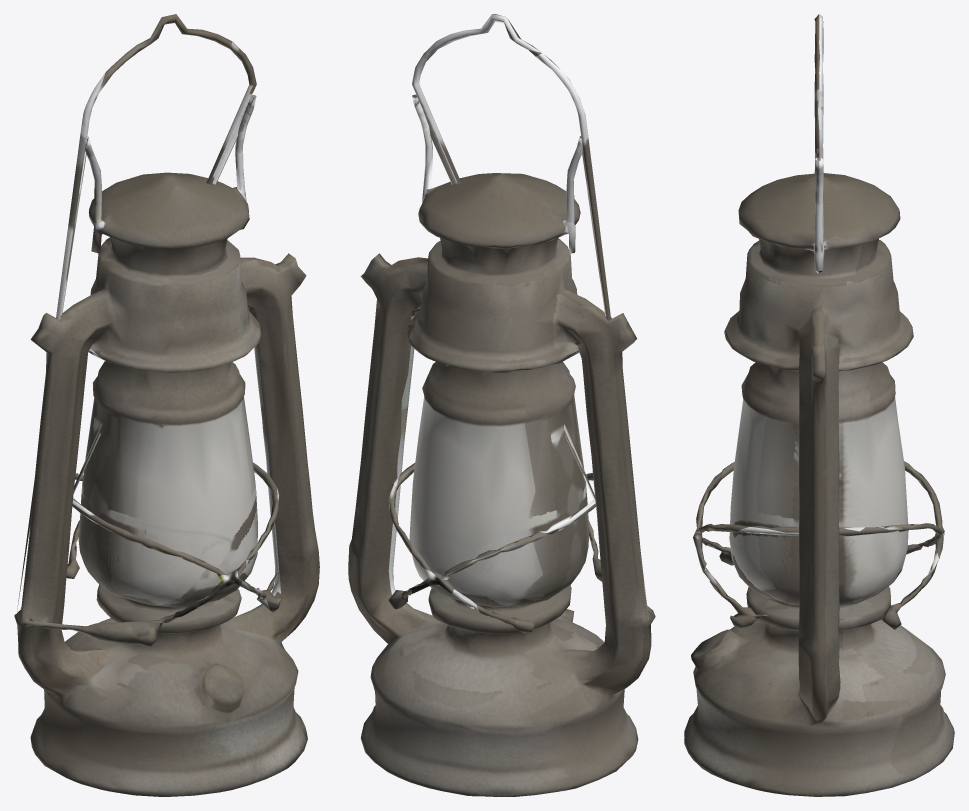
The model's file is farol.glb.
3 renders of one model, left to right at view 1: azimuth 30°, elevation 25°; view 2: azimuth 150°, elevation 25°; view 3: azimuth 270°, elevation 25°, orthographic.
Visible parts, largest first — view 1: temp_mesh.ply; view 2: temp_mesh.ply; view 3: temp_mesh.ply.
Part boxes in pixels (x1,y1,x2,y2): temp_mesh.ply: (14, 14, 319, 796); temp_mesh.ply: (348, 14, 655, 796); temp_mesh.ply: (684, 14, 954, 796).
Size of the model in its own units: 0.1657 by 0.38 by 0.129.
Materials: 1 (1 with a texture image).
